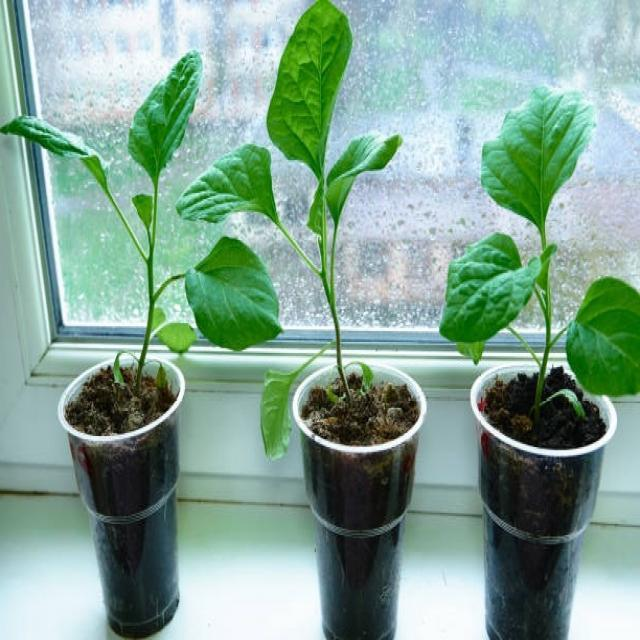brinjal: (177, 0, 403, 459), (0, 50, 281, 390), (441, 86, 640, 421)
